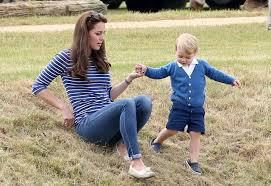child: (138, 31, 240, 177)
